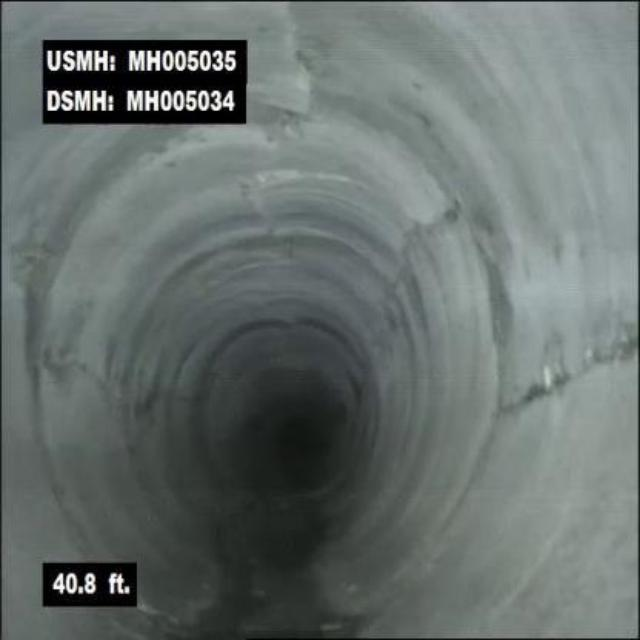Buckling: (269, 3, 328, 131)
Crack: (509, 323, 638, 414), (35, 342, 123, 422), (409, 195, 465, 254)
